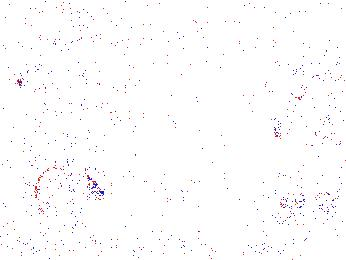flame jellyfish: (35, 166, 105, 225), (266, 62, 308, 139), (260, 163, 309, 211)
